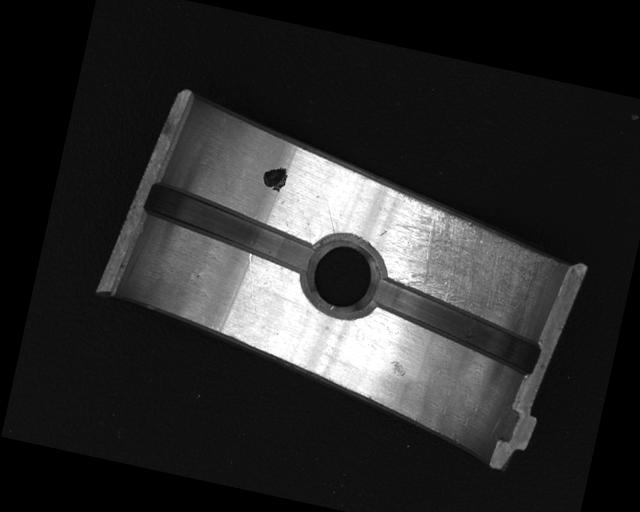blot: (260, 162, 289, 193)
bruise: (387, 358, 409, 379)
gap: (356, 274, 550, 378), (135, 180, 321, 275)
hole: (300, 231, 385, 322)
nick: (235, 252, 271, 320), (319, 197, 342, 235)
scratch: (376, 186, 568, 337)
